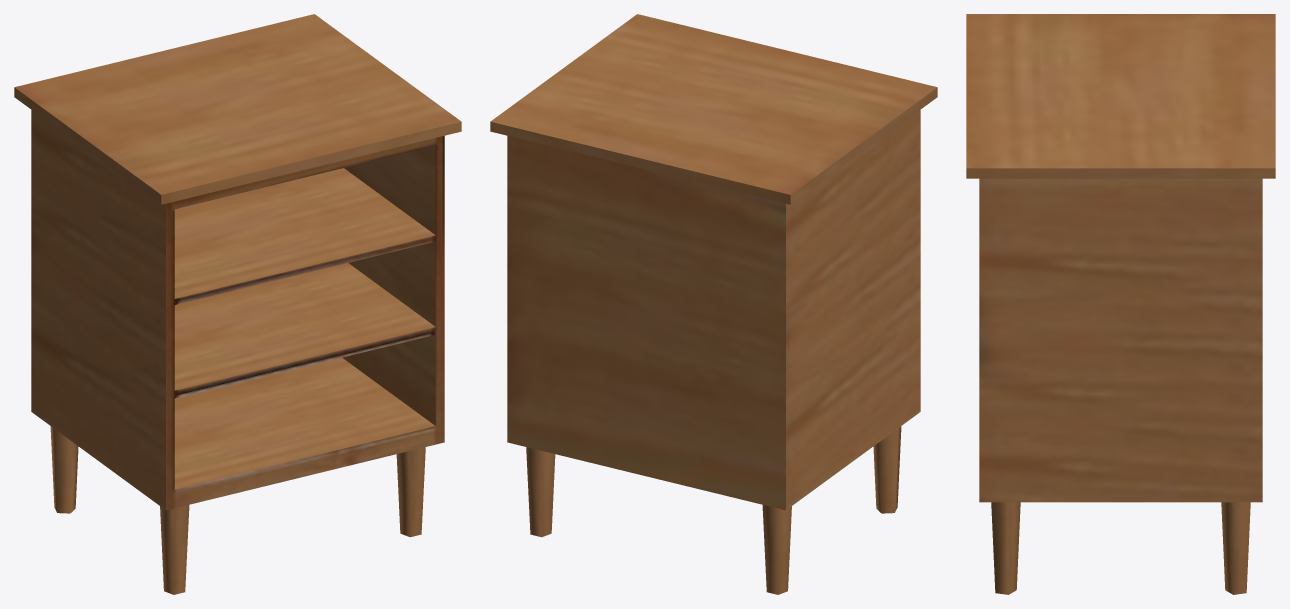
File: Chest_drawers_03_001-col.glb
3 views of the same model, side by side, from view 1: azimuth 30°, elevation 25°; view 2: azimuth 150°, elevation 25°; view 3: azimuth 270°, elevation 25° (orthographic). The views are drawn at different scales.
Visible parts, largest first — view 1: Chest_drawers_03.001-col; view 2: Chest_drawers_03.001-col; view 3: Chest_drawers_03.001-col.
Boxes of the visible parts, x1,y1,x2,y2 form: Chest_drawers_03.001-col: [14, 14, 461, 594]; Chest_drawers_03.001-col: [490, 14, 937, 594]; Chest_drawers_03.001-col: [966, 14, 1275, 594].
Size of the model in its own units: 2.16 by 2.86 by 1.83.
1 material, 1 textured.
